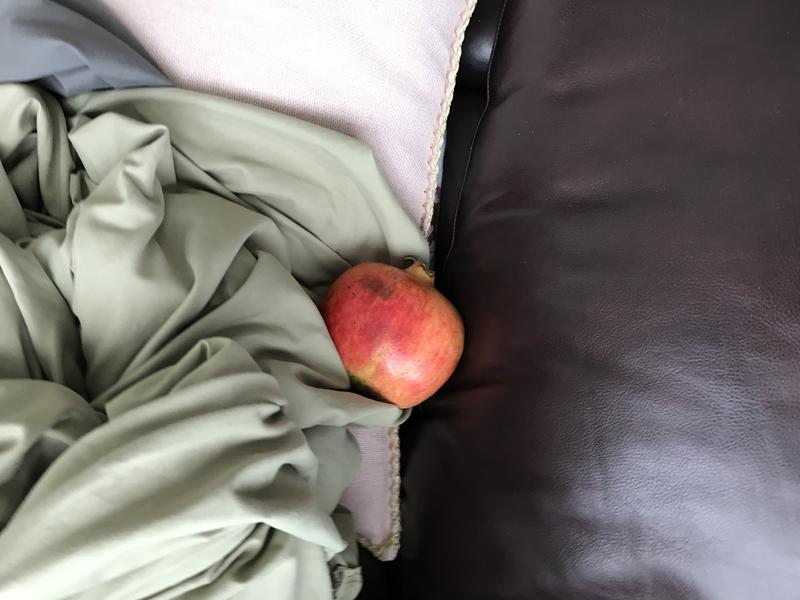pomegranate: (316, 246, 474, 413)
